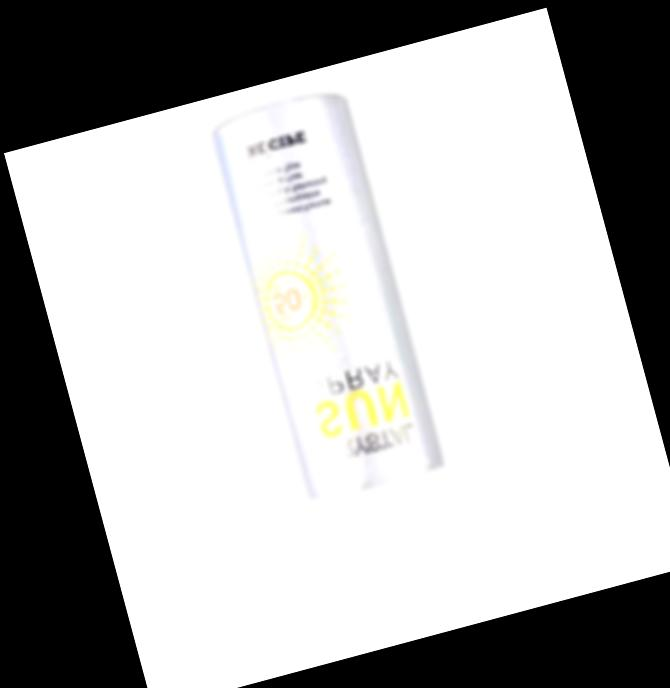cosmetic: (209, 84, 484, 630)
